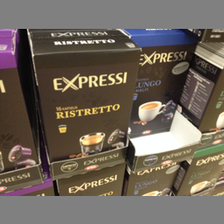coffee: (28, 32, 142, 162), (128, 30, 195, 138)
